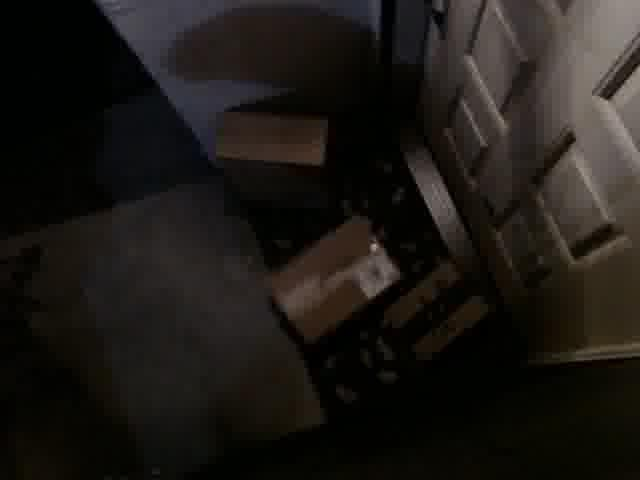box: (259, 209, 404, 343), (382, 266, 493, 366), (211, 111, 328, 168)
